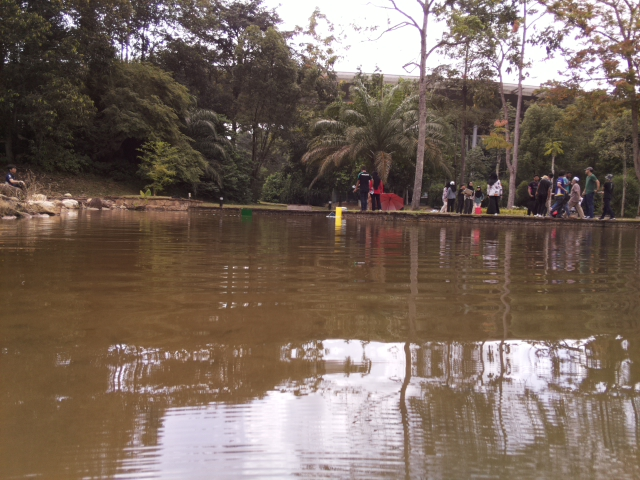obstacle: (240, 208, 253, 216)
